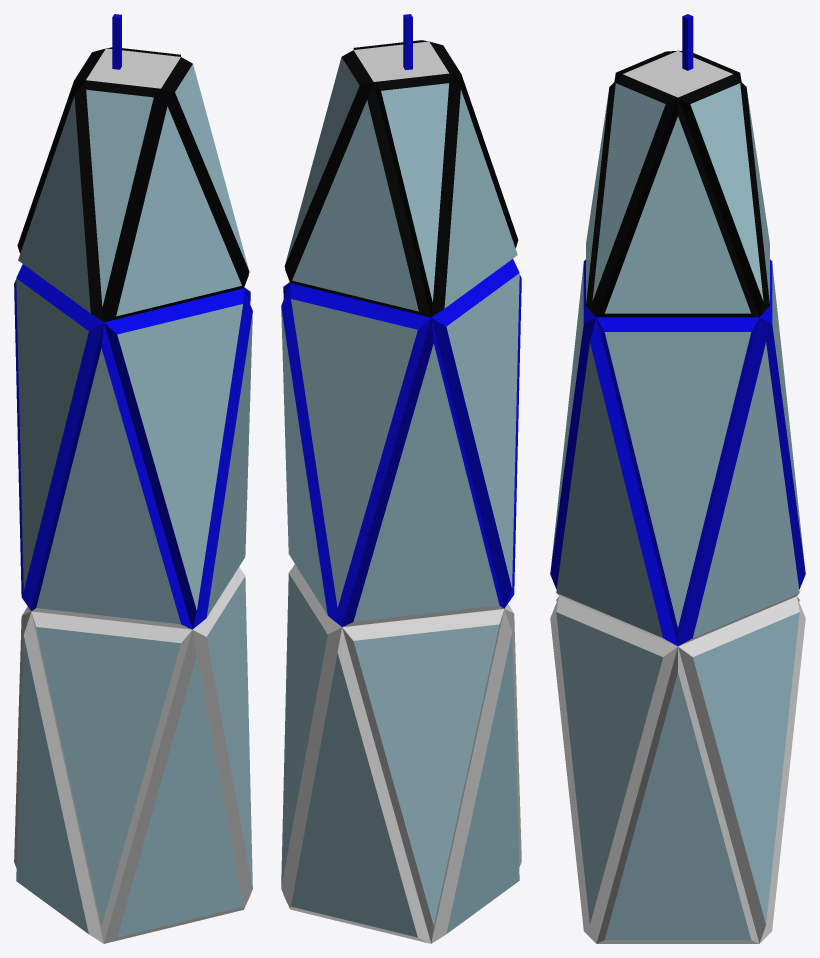
The model's file is Future Building Fixed Face Inversion.fbx.
The picture shows the model from 3 angles, left to right: view 1: azimuth 30°, elevation 25°; view 2: azimuth 150°, elevation 25°; view 3: azimuth 270°, elevation 25°; orthographic projection.
Visible parts, largest first — view 1: TR Building 8; view 2: TR Building 8; view 3: TR Building 8.
Boxes of the visible parts, box(x1,y1,x2,y2) form: TR Building 8: box(14, 14, 252, 943); TR Building 8: box(281, 14, 521, 943); TR Building 8: box(550, 14, 805, 943).
Bounding box in the file's own units: 222 × 850 × 222.
